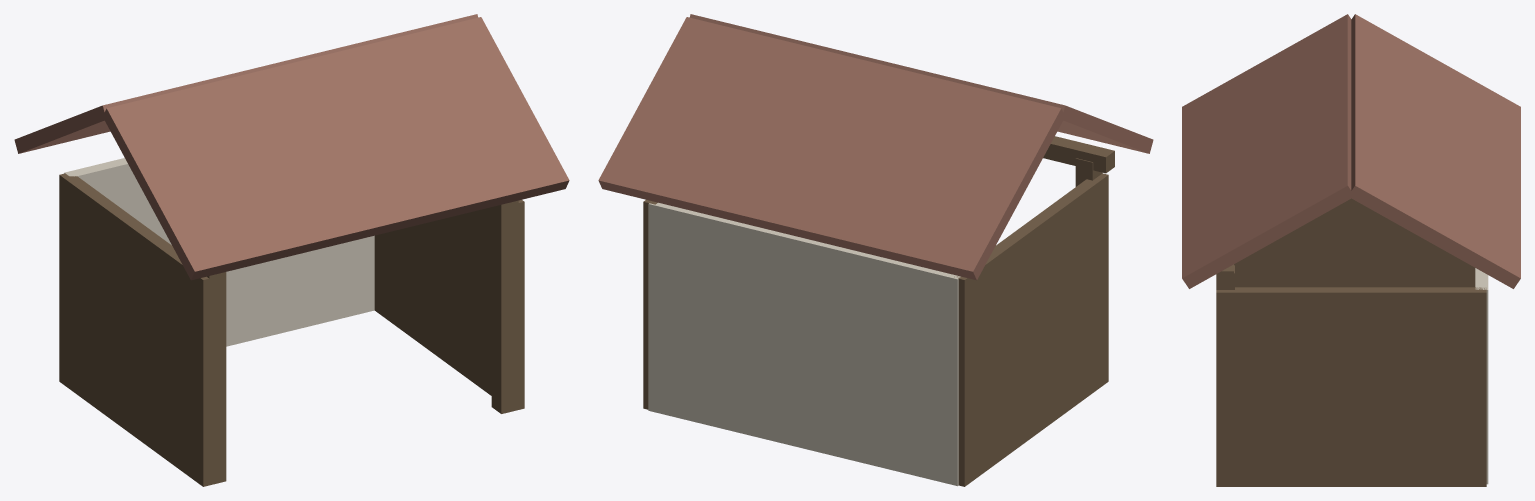
Rendered from shed.glb.
3 views of the same model, side by side, from view 1: azimuth 30°, elevation 25°; view 2: azimuth 150°, elevation 25°; view 3: azimuth 270°, elevation 25° (orthographic). The views are drawn at different scales.
Parts seen in each view (by area): view 1: shed; view 2: shed; view 3: shed.
Boxes of the visible parts, box(x1,y1,x2,y2) form: shed: box(14, 14, 569, 486); shed: box(598, 14, 1153, 486); shed: box(1182, 14, 1520, 486).
Bounding box in the file's own units: 4.36 × 3.71 × 3.64.
